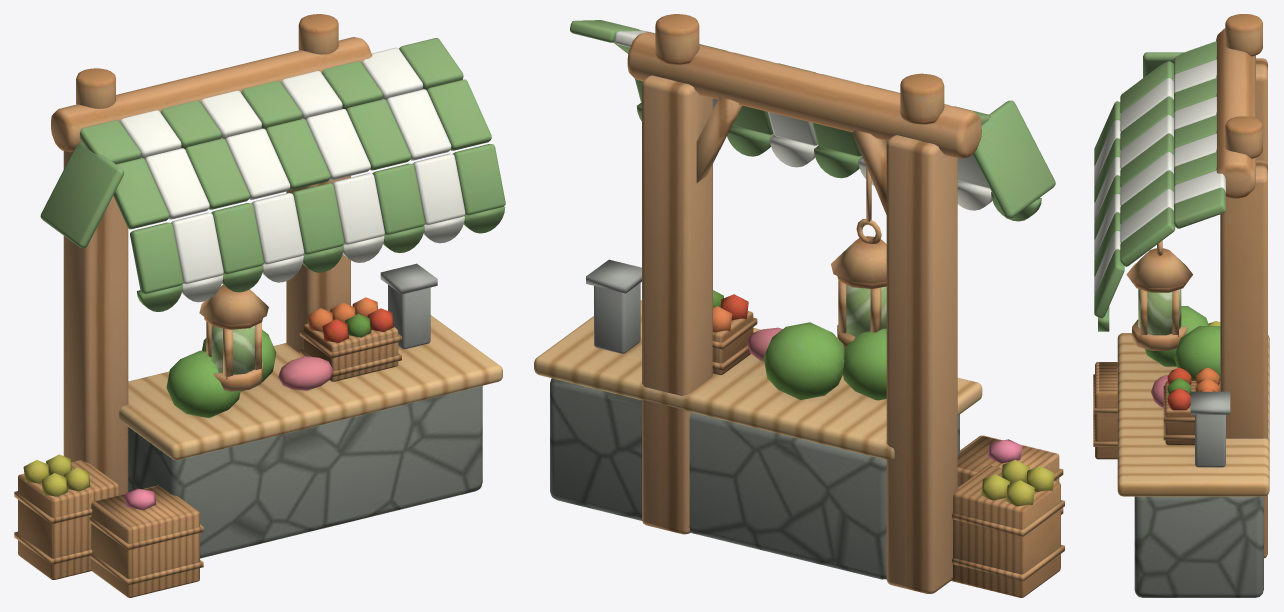
Rendered from awning_stall_2_high.glb.
3 views of the same model, side by side, from view 1: azimuth 30°, elevation 25°; view 2: azimuth 150°, elevation 25°; view 3: azimuth 270°, elevation 25° (orthographic). The views are drawn at different scales.
Visible parts, largest first — view 1: awning_stall_2; view 2: awning_stall_2; view 3: awning_stall_2.
Boxes of the visible parts, x1,y1,x2,y2 form: awning_stall_2: (14,14,505,597); awning_stall_2: (534,14,1064,597); awning_stall_2: (1093,14,1269,597).
Bounding box in the file's own units: 1.66 × 1.68 × 0.626.
Materials: 1 (1 with a texture image).
